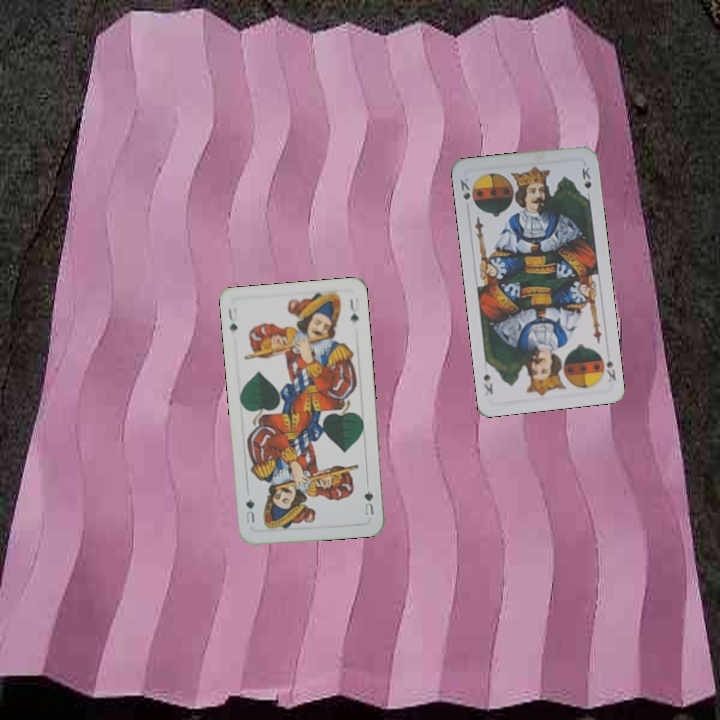GU: (360, 486, 376, 518), (224, 305, 240, 333)
SK: (596, 349, 619, 384), (456, 173, 473, 202)
